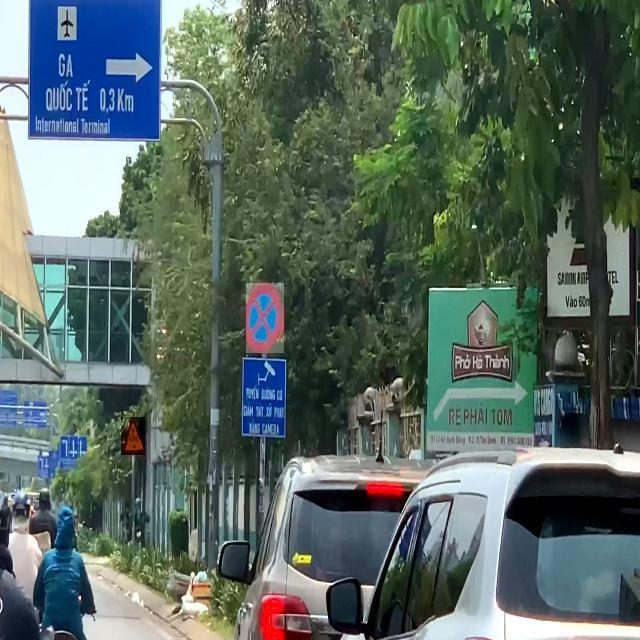P-130: (246, 283, 284, 353)
S-509a: (121, 417, 145, 455)
